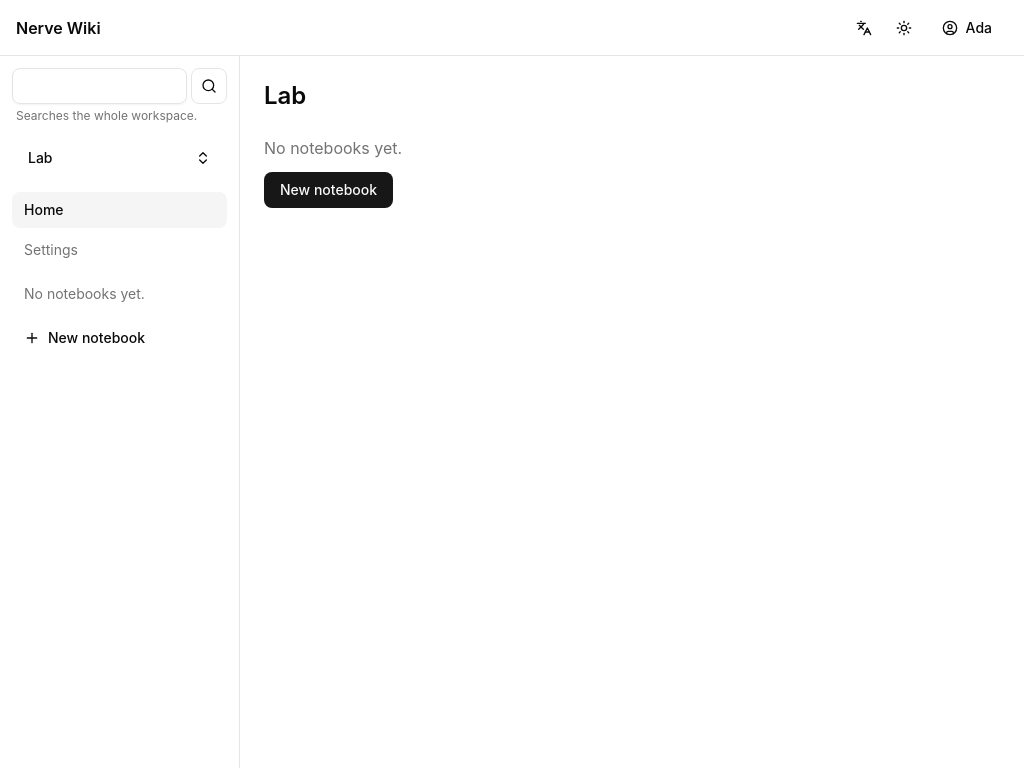
the server's not_allowed shows under the name, by a title's rules
This screenshot has width=1024, height=768.
Click the button "New notebook" below "Settings". click: (120, 338)
box: [12,320,227,356]
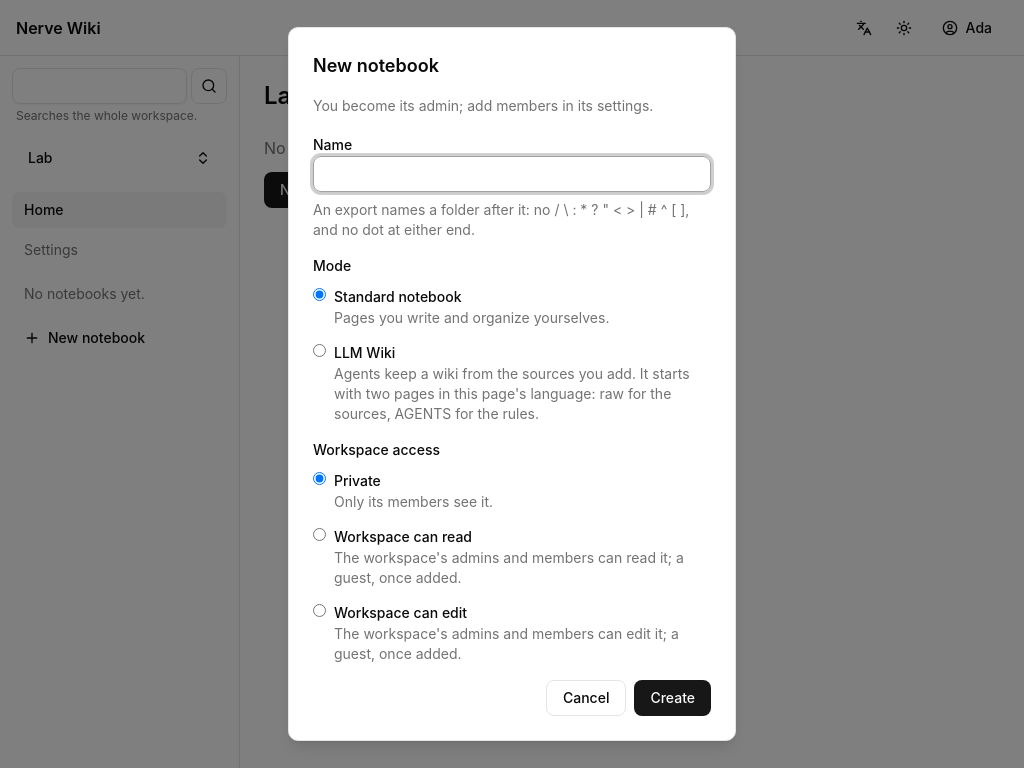
Type "CON" into the field labelled "Name". click: (512, 174)
box: [313,156,711,192]
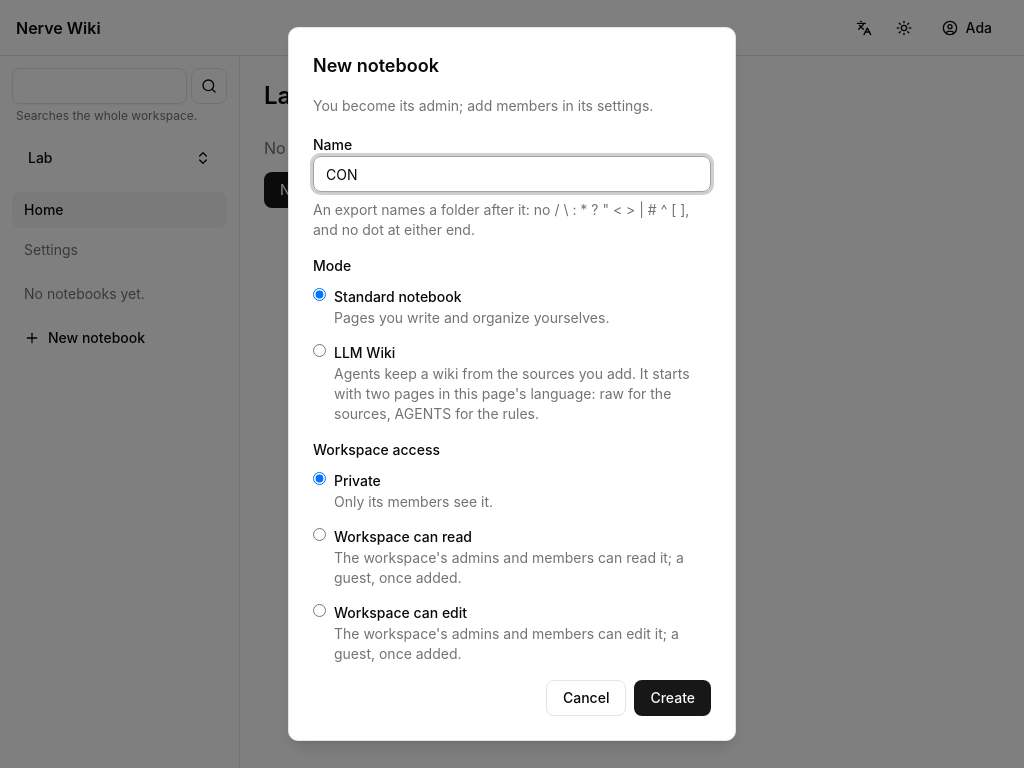
Click the button "Create". click: (673, 698)
box: [634,680,711,716]
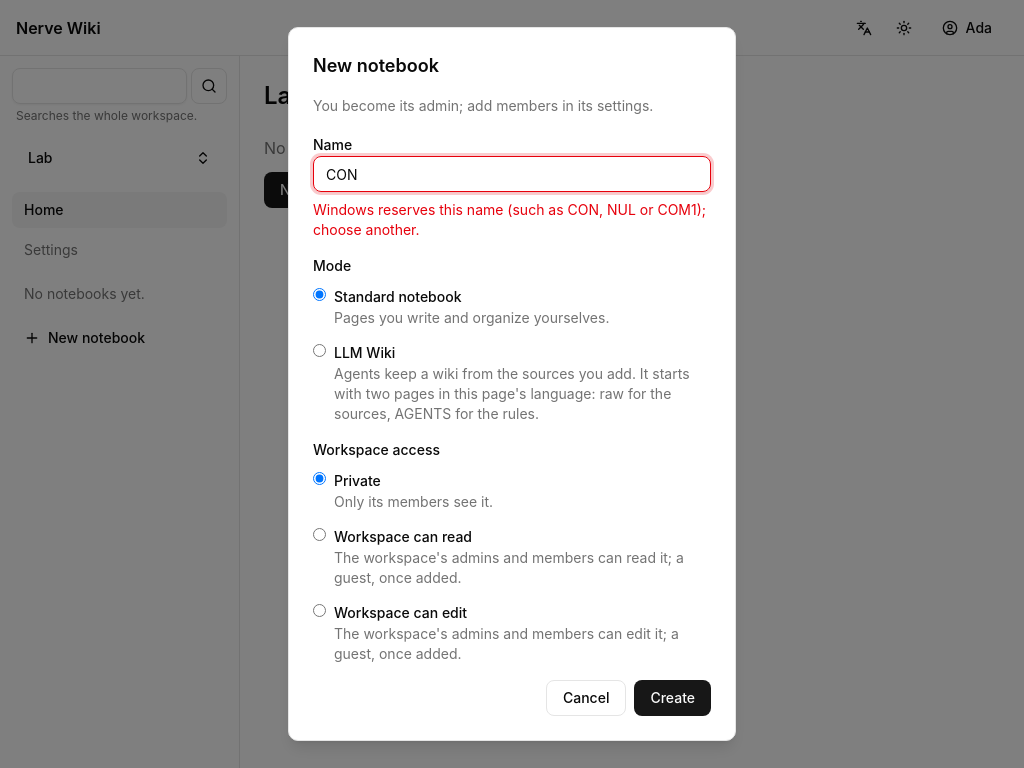
Expected: the text "Windows reserves this name (such as CON, NUL or COM1); choose another." is shown, [313,200,711,240]
